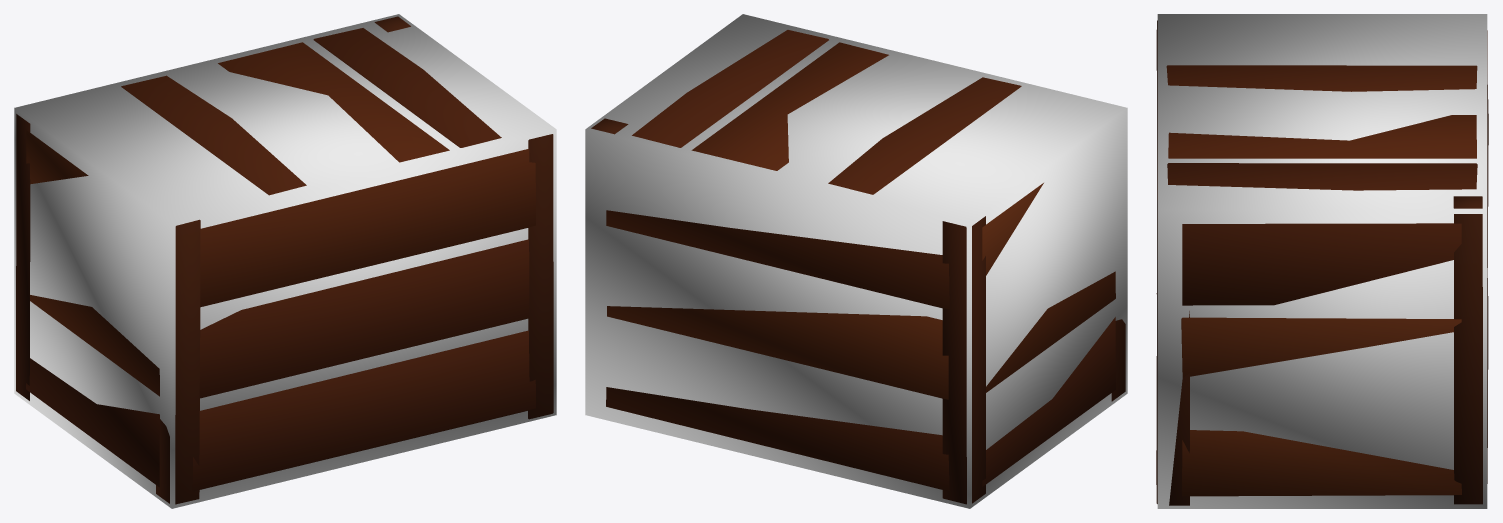
The model's file is caja_madera.glb.
The picture shows the model from 3 angles, left to right: view 1: azimuth 30°, elevation 25°; view 2: azimuth 150°, elevation 25°; view 3: azimuth 270°, elevation 25°; orthographic projection. The views are drawn at different scales.
Parts seen in each view (by area): view 1: caja, caja_madera-colcaja; view 2: caja_madera-colcaja, caja; view 3: caja_madera-colcaja, caja.
Boxes of the visible parts, x1,y1,x2,y2 form: caja: (16, 16, 553, 504); caja_madera-colcaja: (14, 14, 556, 508); caja_madera-colcaja: (585, 14, 1127, 508); caja: (591, 30, 1125, 504); caja_madera-colcaja: (1157, 14, 1487, 508); caja: (1156, 20, 1488, 505).
Size of the model in its own units: 0.6224 by 0.4425 by 0.4436.
